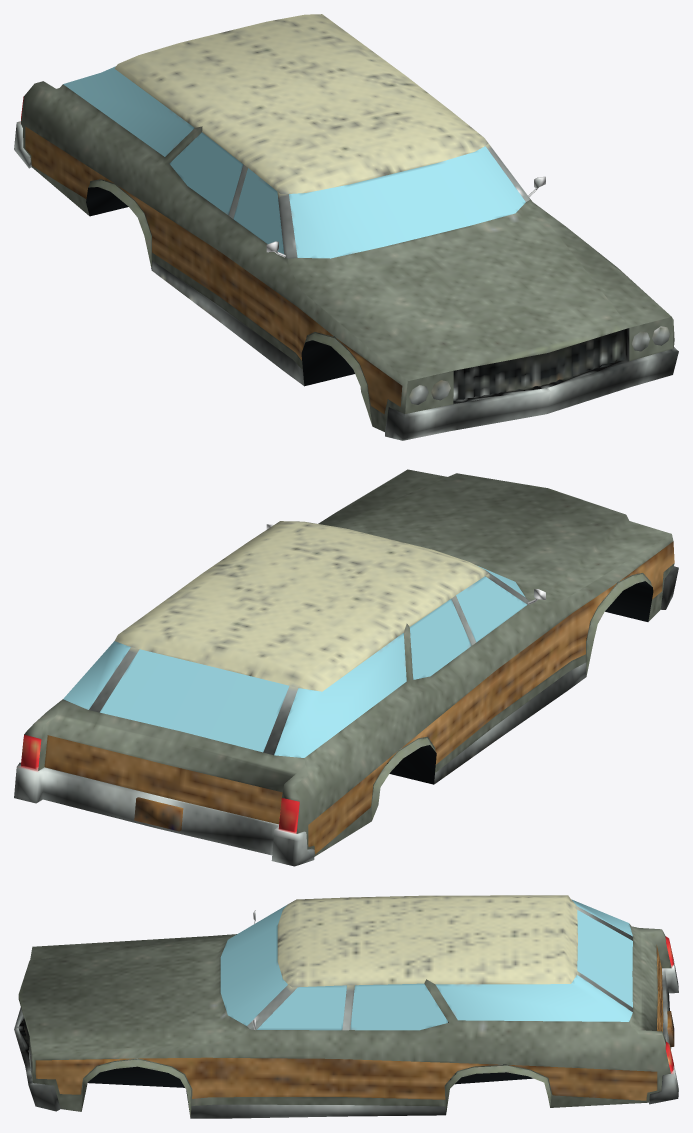
The model's file is buick estate.fbx.
The picture shows the model from 3 angles, top to bottom: view 1: azimuth 30°, elevation 25°; view 2: azimuth 150°, elevation 25°; view 3: azimuth 270°, elevation 25°; orthographic projection. The views are drawn at different scales.
Visible parts, largest first — view 1: buick estate; view 2: buick estate; view 3: buick estate.
Part boxes in pixels (left/top/right/bottom): buick estate: left=14, top=14, right=678, bottom=440; buick estate: left=14, top=469, right=678, bottom=866; buick estate: left=14, top=895, right=678, bottom=1118.
Size of the model in its own units: 2.9 by 1.49 by 6.82.
